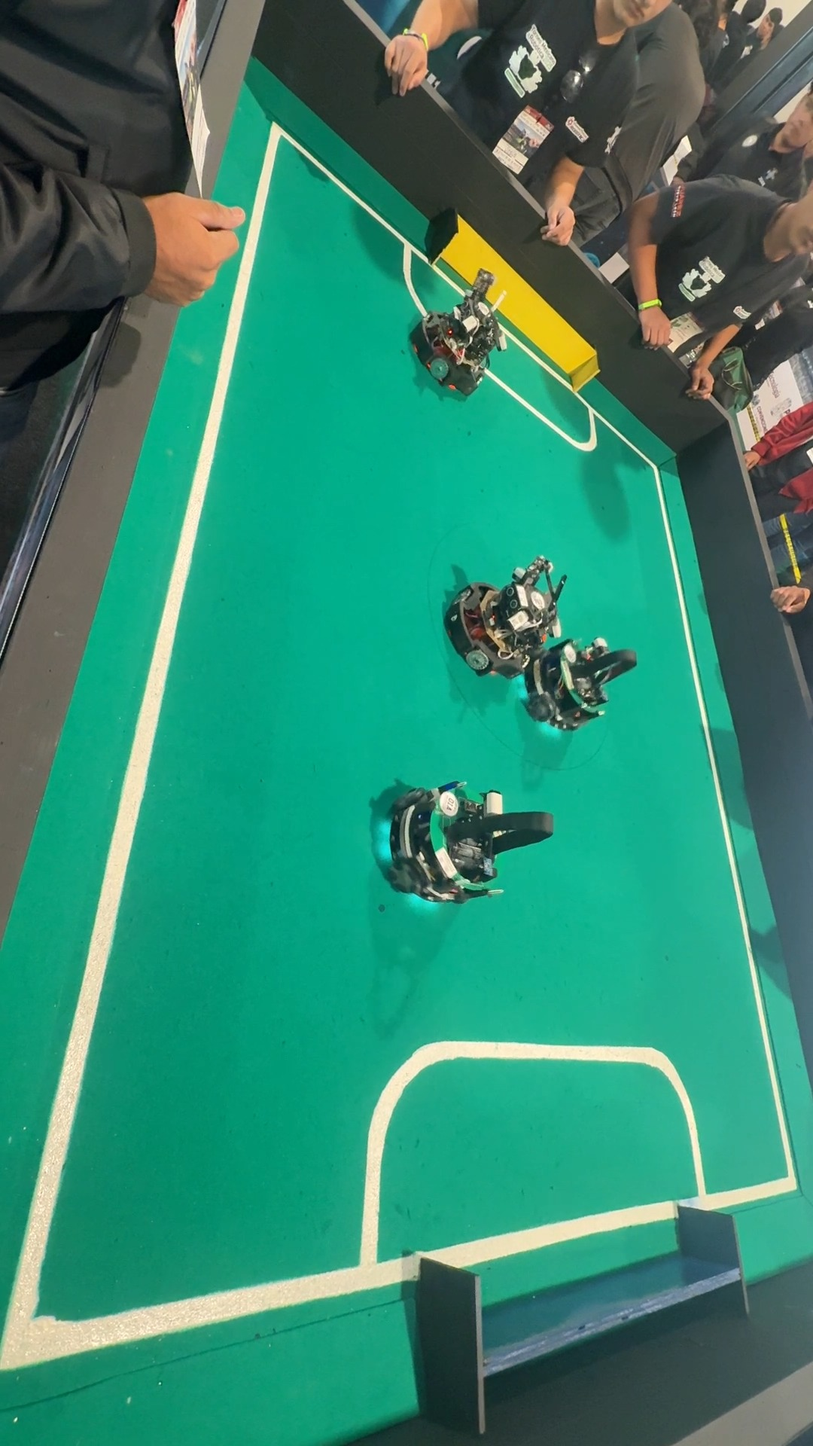Robot: (368, 749, 504, 917), (440, 528, 548, 685), (399, 256, 507, 405), (527, 635, 631, 740)
